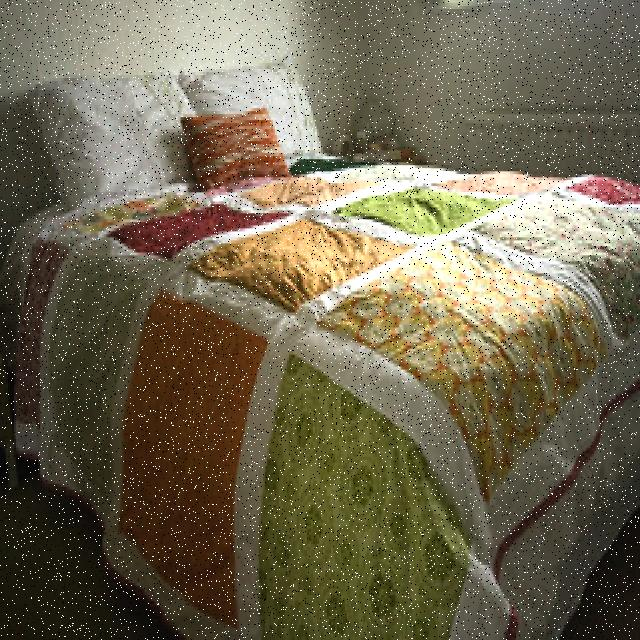bed: (12, 66, 640, 640)
